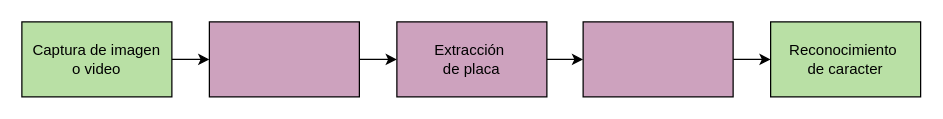
Some shapes in this 943 by 119 pixel diagram are drawn without their labels. The shapes that lost their labels are listed below. From the top down, each one's centre as x and y in pixels, then its label:
point 283,59: Preprocesamiento
point 657,59: Segmentación de caracter
